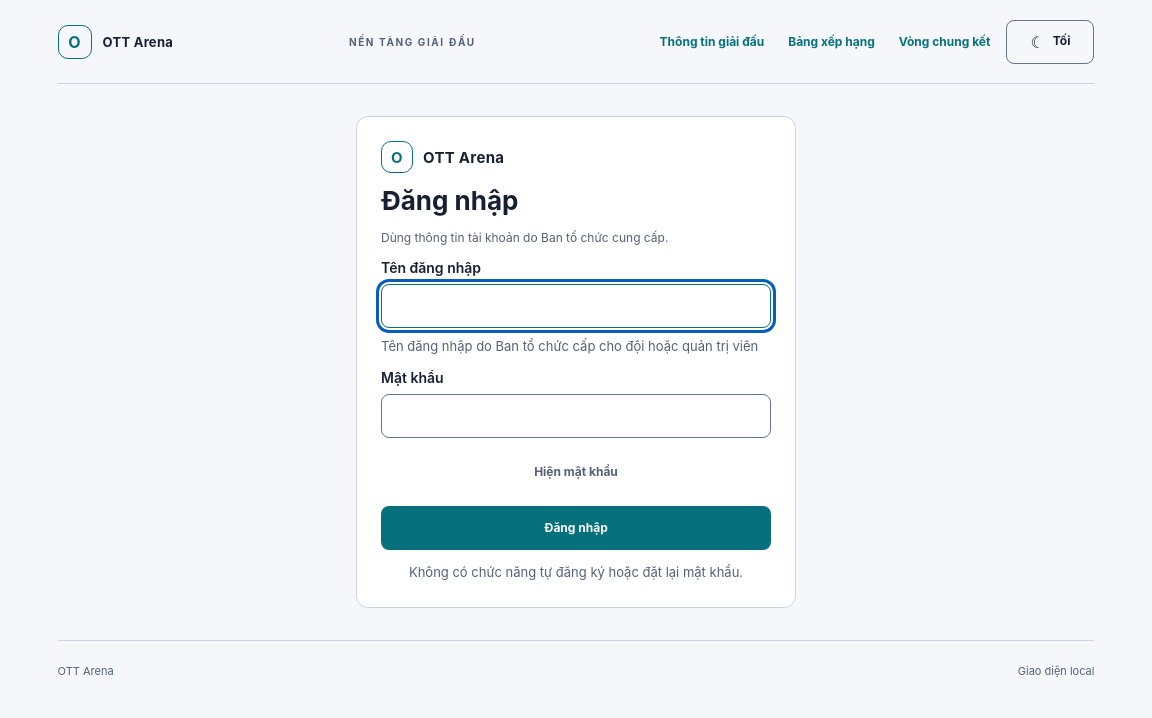
it: authentication routes › supports toggling to recovery code and shows generic error on invalid MFA code
Type "btc-admin" into the field labelled "Tên đăng nhập". click: (576, 306)
box: [381,284,771,328]
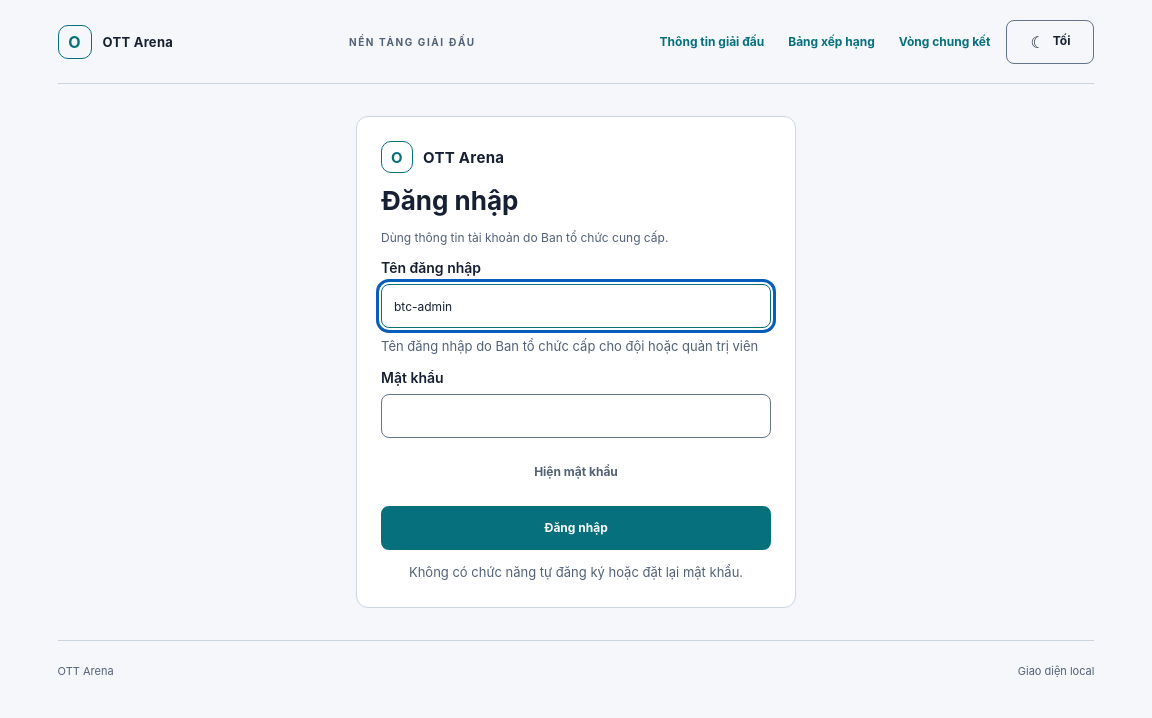
Type "admin-password" into the password field labelled "Mật khẩu". click: (576, 416)
box: [381,394,771,438]
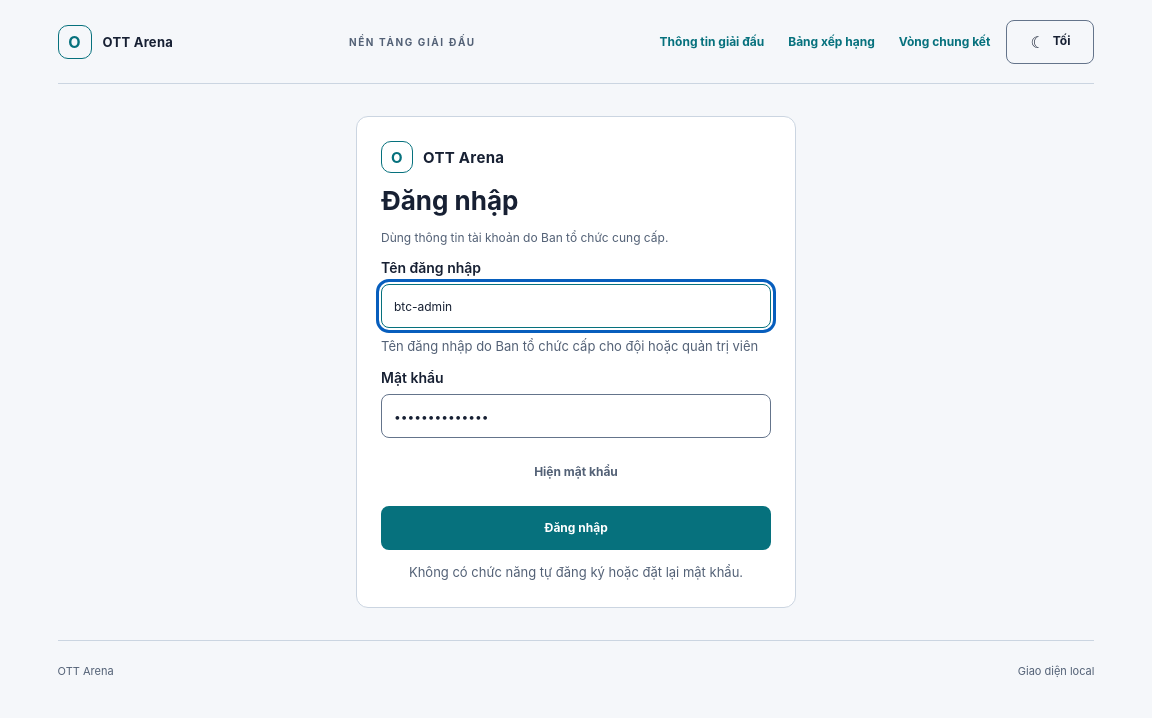
Submit the form "đăng nhập", box [381,259,771,550]
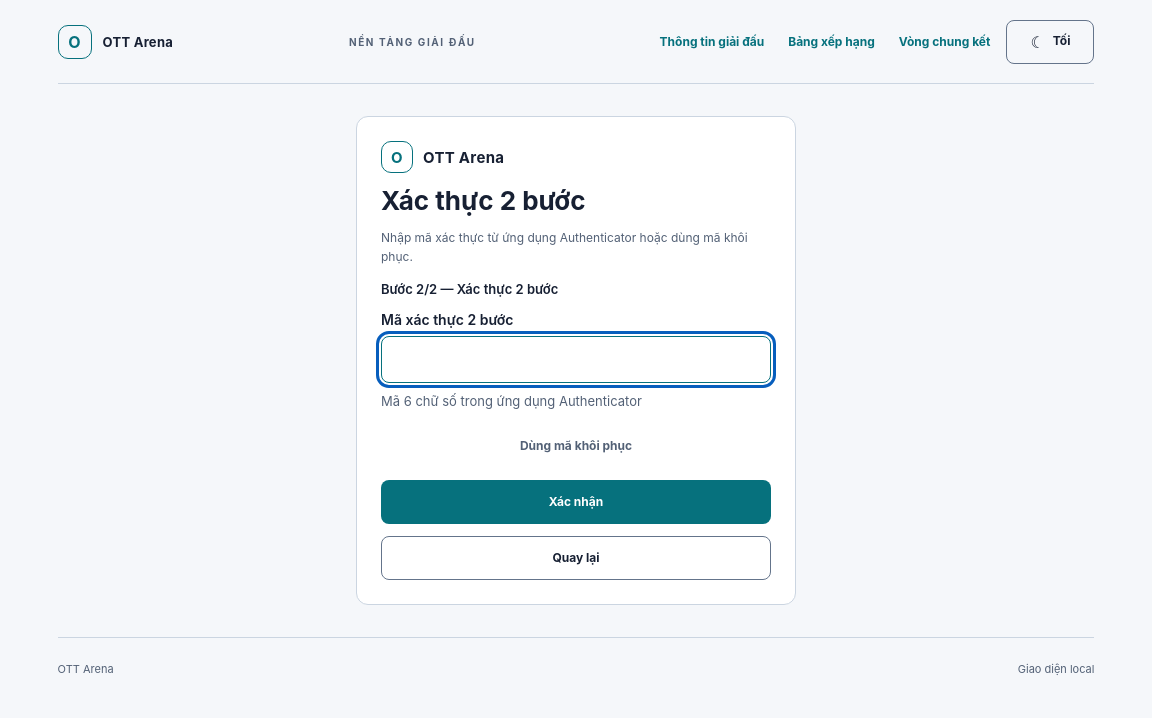
Expected: the heading "Xác thực 2 bước" is shown, [381,185,586,216]
# Toggle to recovery code
Click the button "Dùng mã khôi phục". click: (576, 446)
box: [381,424,771,468]
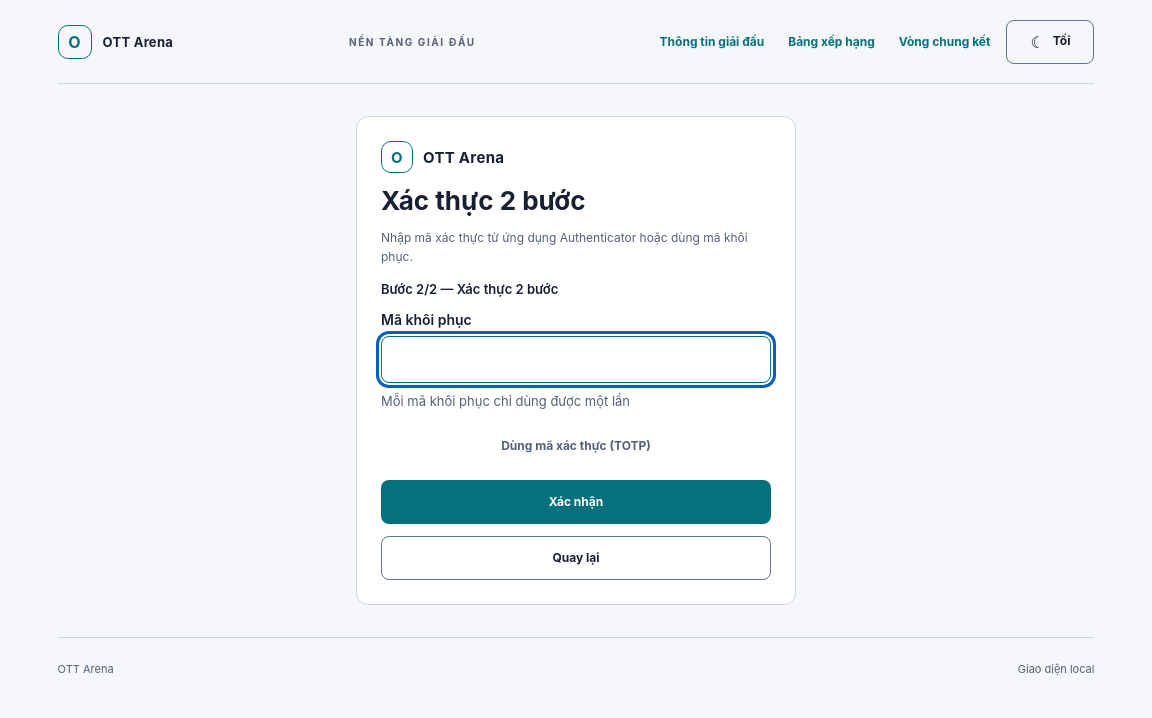
Expected: the field labelled "Mã khôi phục" is shown
# Enter recovery code and submit
Type "ABCD-EFGH-IJKL-MNOP" into the field labelled "Mã khôi phục". click: (576, 360)
box: [381,336,771,383]
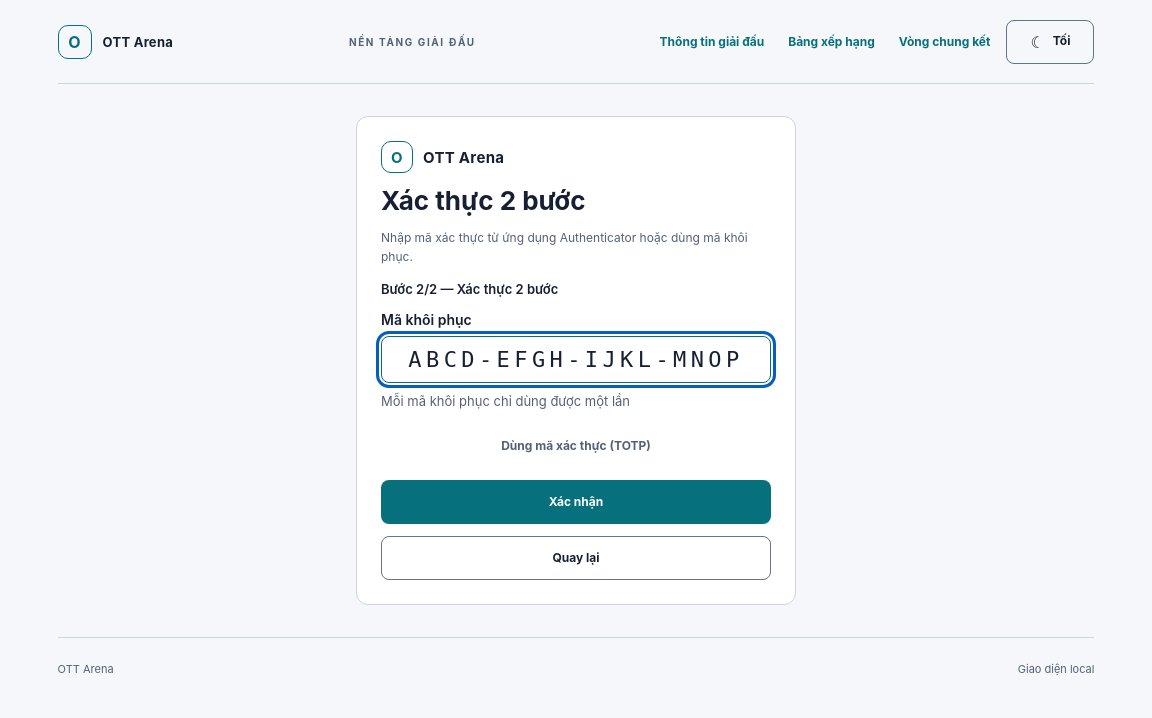
Submit the form named "Xác thực 2 bước", box [381,311,771,580]
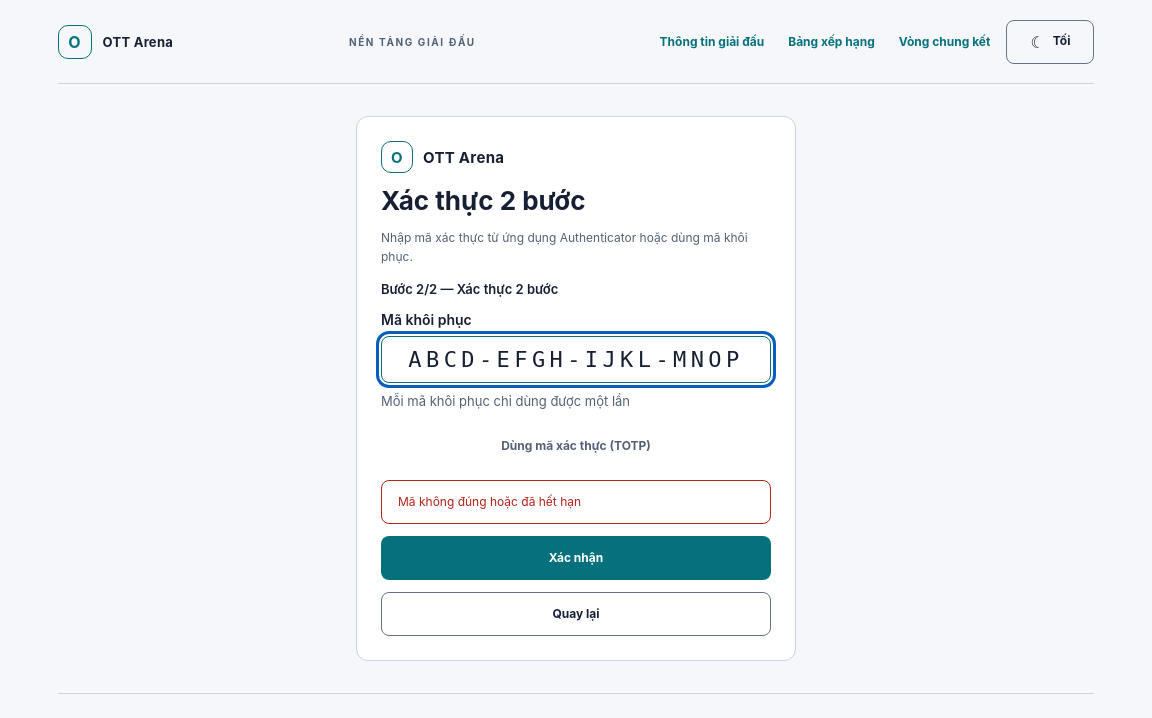
Expected: the message "Mã không đúng hoặc đã hết hạn" is shown, [381,480,771,524]
Expected: the message reads "Mã không đúng hoặc đã hết hạn", [398,494,581,509]
